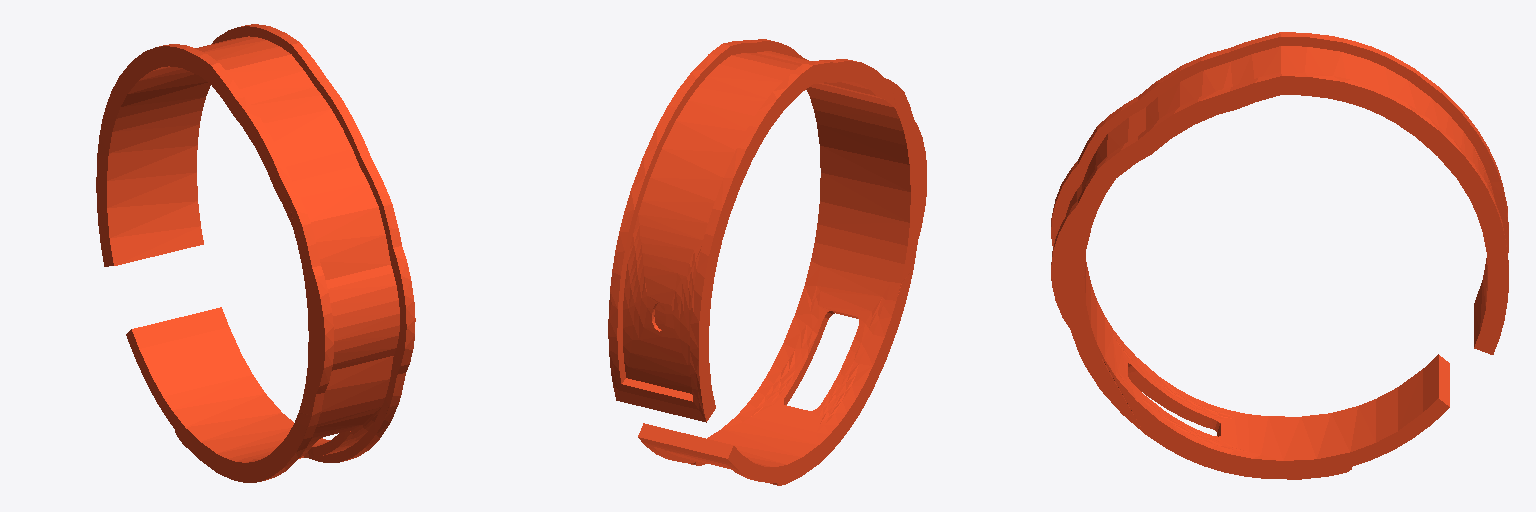
The model's file is testspherecourse.obj.
3 views of the same model, side by side, from view 1: azimuth 30°, elevation 25°; view 2: azimuth 150°, elevation 25°; view 3: azimuth 270°, elevation 25° (orthographic).
Parts seen in each view (by area): view 1: testcourse5; view 2: testcourse5; view 3: testcourse5.
Boxes of the visible parts, x1=… form: testcourse5: x1=96, y1=24, x2=415, y2=482; testcourse5: x1=608, y1=39, x2=926, y2=485; testcourse5: x1=1051, y1=32, x2=1508, y2=479.
Size of the model in its own units: 1 by 4.28 by 4.4.